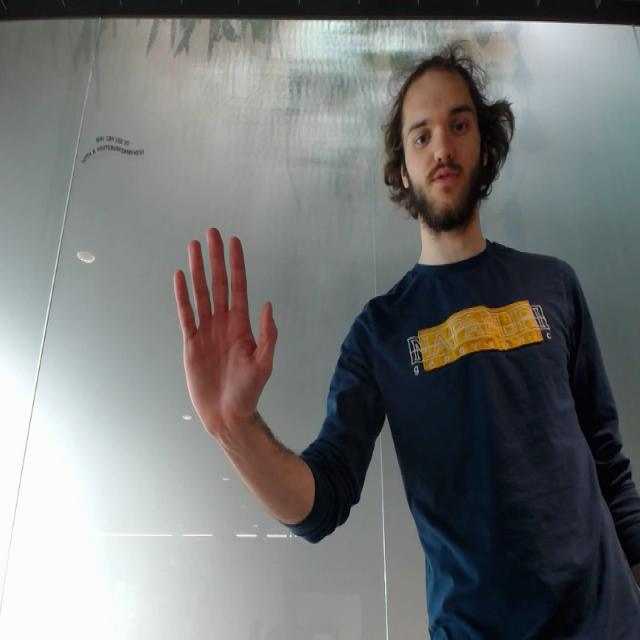backward: (170, 222, 288, 428)
